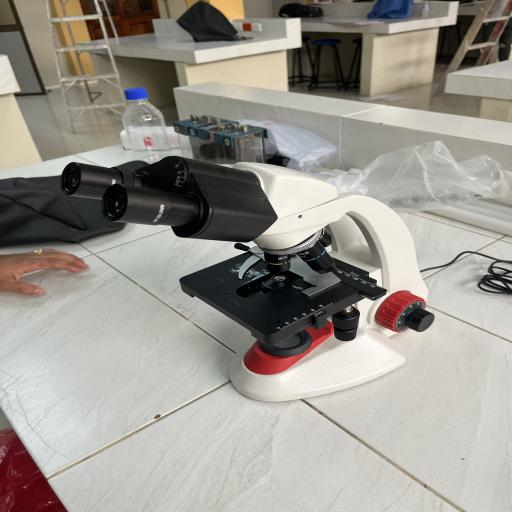Microscopio_Binocular: (52, 146, 447, 412)
